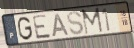1: (101, 7, 112, 32)
A: (52, 12, 70, 38)
E: (31, 14, 53, 41)
G: (17, 16, 34, 42)
M: (80, 7, 104, 36)
S: (66, 10, 85, 36)
